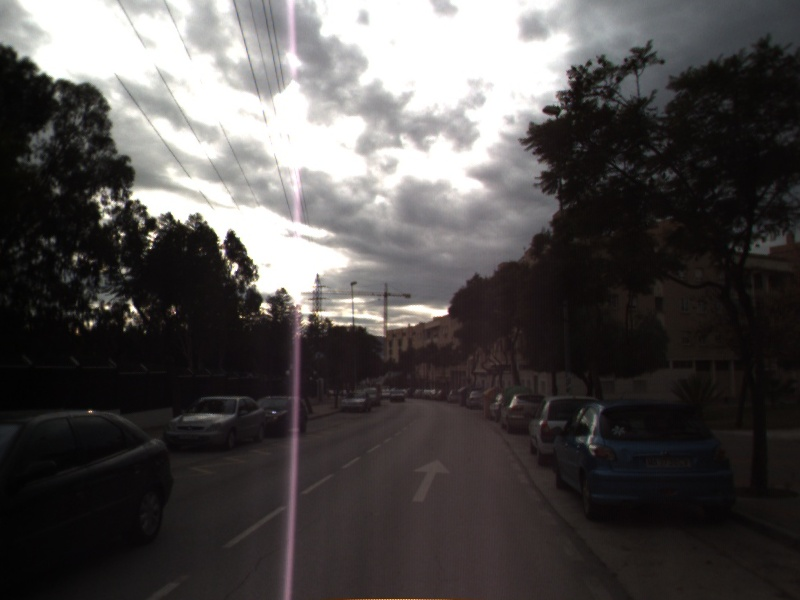STRAIGHT: (409, 457, 453, 504)
